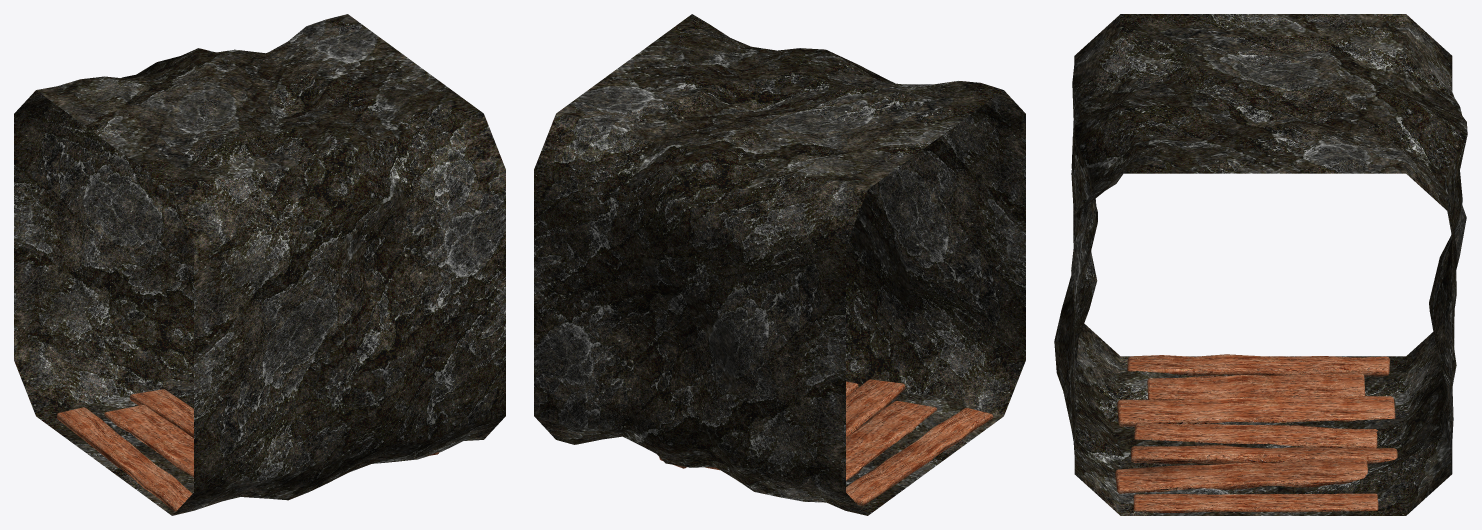
The model's file is Cave_002.fbx.
3 views of the same model, side by side, from view 1: azimuth 30°, elevation 25°; view 2: azimuth 150°, elevation 25°; view 3: azimuth 270°, elevation 25° (orthographic). The views are drawn at different scales.
Parts seen in each view (by area): view 1: Cave.002; view 2: Cave.002; view 3: Cave.002.
Boxes of the visible parts, x1=… form: Cave.002: x1=14, y1=14, x2=505, y2=515; Cave.002: x1=534, y1=14, x2=1025, y2=515; Cave.002: x1=1054, y1=14, x2=1467, y2=515.
Bounding box in the file's own units: 300 × 313 × 328.
